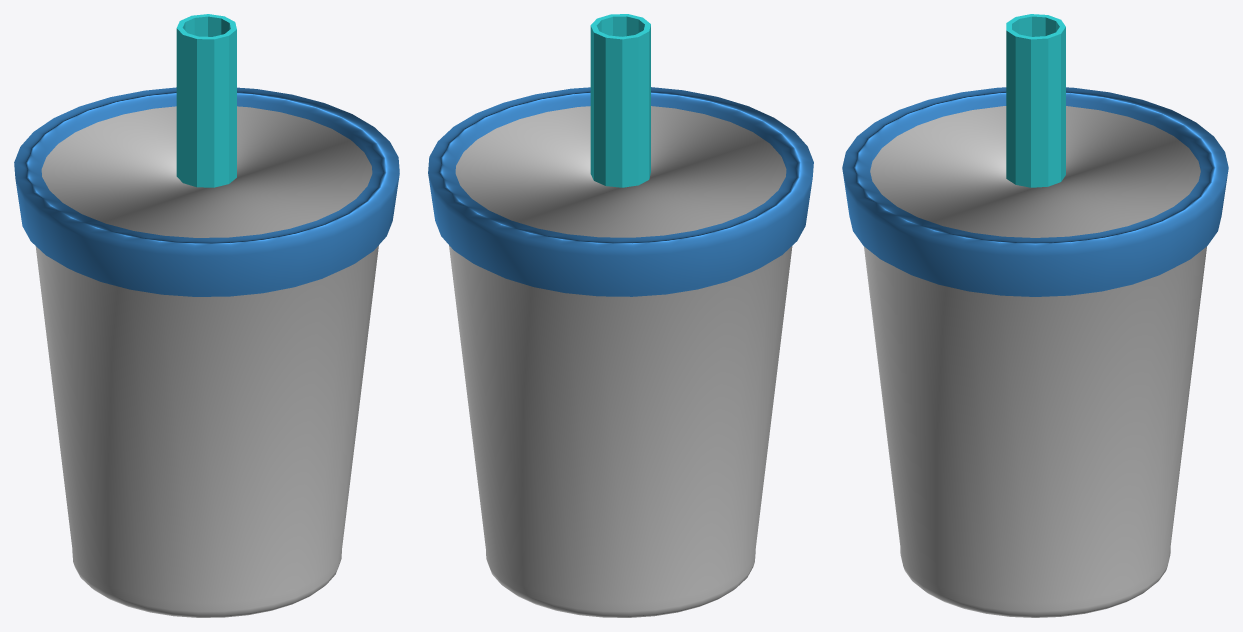
The model's file is boba.fbx.
3 views of the same model, side by side, from view 1: azimuth 30°, elevation 25°; view 2: azimuth 150°, elevation 25°; view 3: azimuth 270°, elevation 25° (orthographic).
Visible parts, largest first — view 1: Cylinder.004; view 2: Cylinder.004; view 3: Cylinder.004.
Part boxes in pixels (box(x1,y1,x2,y2)): Cylinder.004: box(14, 14, 399, 617); Cylinder.004: box(428, 14, 813, 617); Cylinder.004: box(842, 14, 1228, 617).
Size of the model in its own units: 698 by 1072 by 698.
